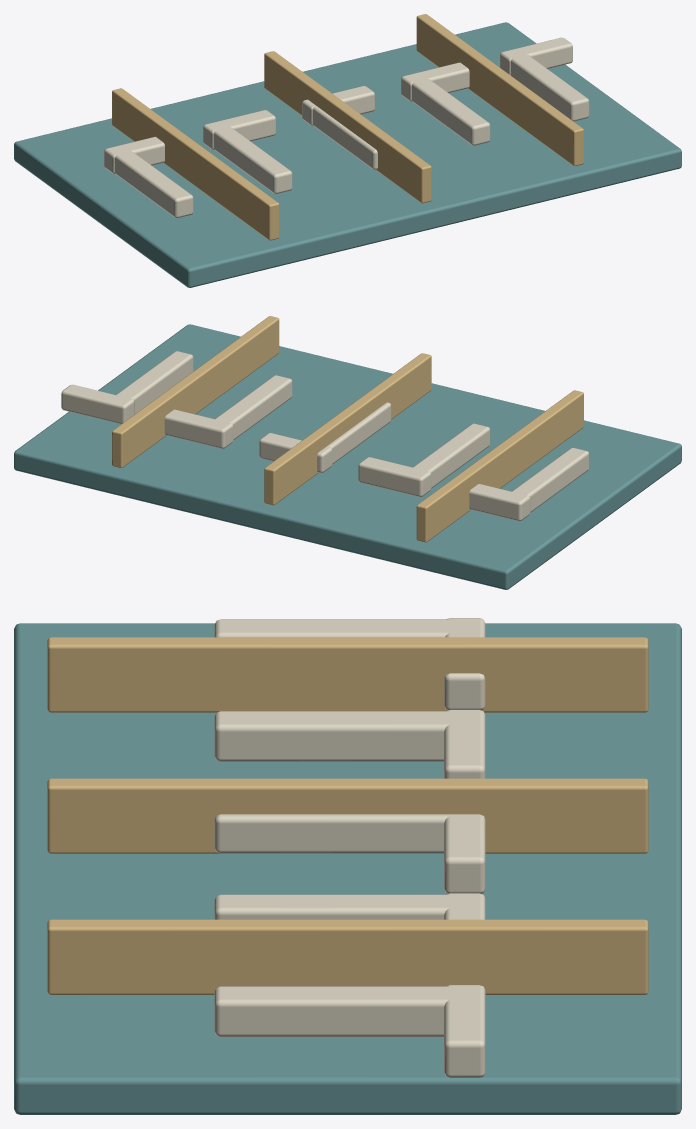
File: abandoned-cinema-and-projection-booth-abandoned-cinema-6d3dea9a__29695.glb
The picture shows the model from 3 angles, top to bottom: view 1: azimuth 30°, elevation 25°; view 2: azimuth 150°, elevation 25°; view 3: azimuth 270°, elevation 25°; orthographic projection. The views are drawn at different scales.
Visible parts, largest first — view 1: abandoned-cinema-and-projection-booth-cinema-letter-tray; view 2: abandoned-cinema-and-projection-booth-cinema-letter-tray; view 3: abandoned-cinema-and-projection-booth-cinema-letter-tray.
Part boxes in pixels (x1=…): abandoned-cinema-and-projection-booth-cinema-letter-tray: x1=14, y1=14, x2=681, y2=287; abandoned-cinema-and-projection-booth-cinema-letter-tray: x1=14, y1=316, x2=681, y2=589; abandoned-cinema-and-projection-booth-cinema-letter-tray: x1=14, y1=618, x2=681, y2=1114.
Size of the model in its own units: 0.6555 by 0.07 by 0.4.
